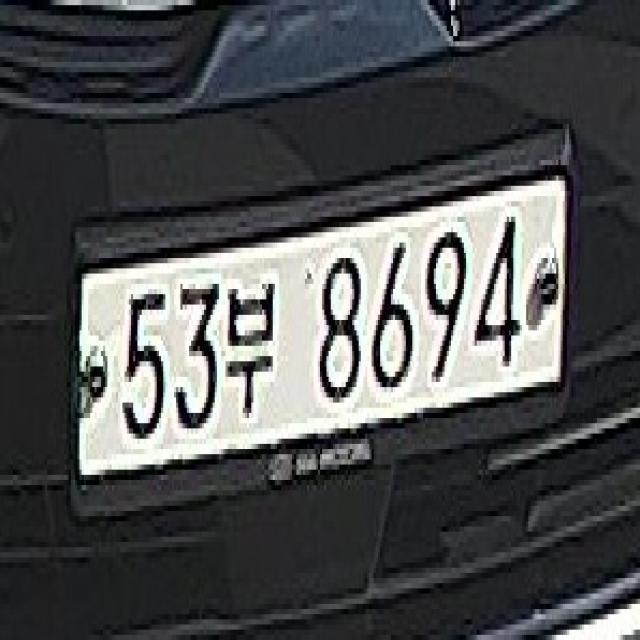3: (174, 274, 228, 454)
4: (472, 201, 528, 413)
5: (124, 284, 168, 449)
6: (369, 232, 421, 418)
8: (309, 243, 372, 449)
9: (421, 201, 466, 403)
bu: (217, 253, 281, 423)
license_plate: (69, 129, 582, 547)
